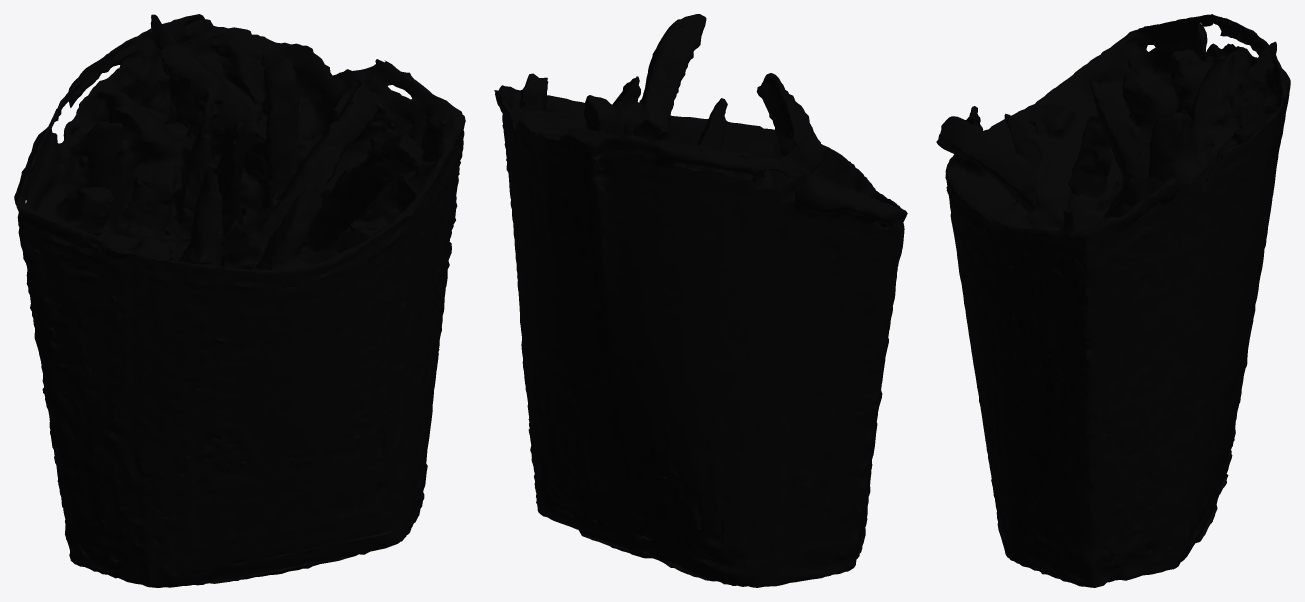
The model's file is scene_fries.glb.
3 views of the same model, side by side, from view 1: azimuth 30°, elevation 25°; view 2: azimuth 150°, elevation 25°; view 3: azimuth 270°, elevation 25° (orthographic).
Parts seen in each view (by area): view 1: node3; view 2: node3; view 3: node3.
Part boxes in pixels (x1,y1,x2,y2): node3: (14,14,465,587); node3: (494,14,907,587); node3: (936,14,1290,587).
Size of the model in its own units: 10.3 by 10.66 by 7.42.
1 material, 1 textured.
